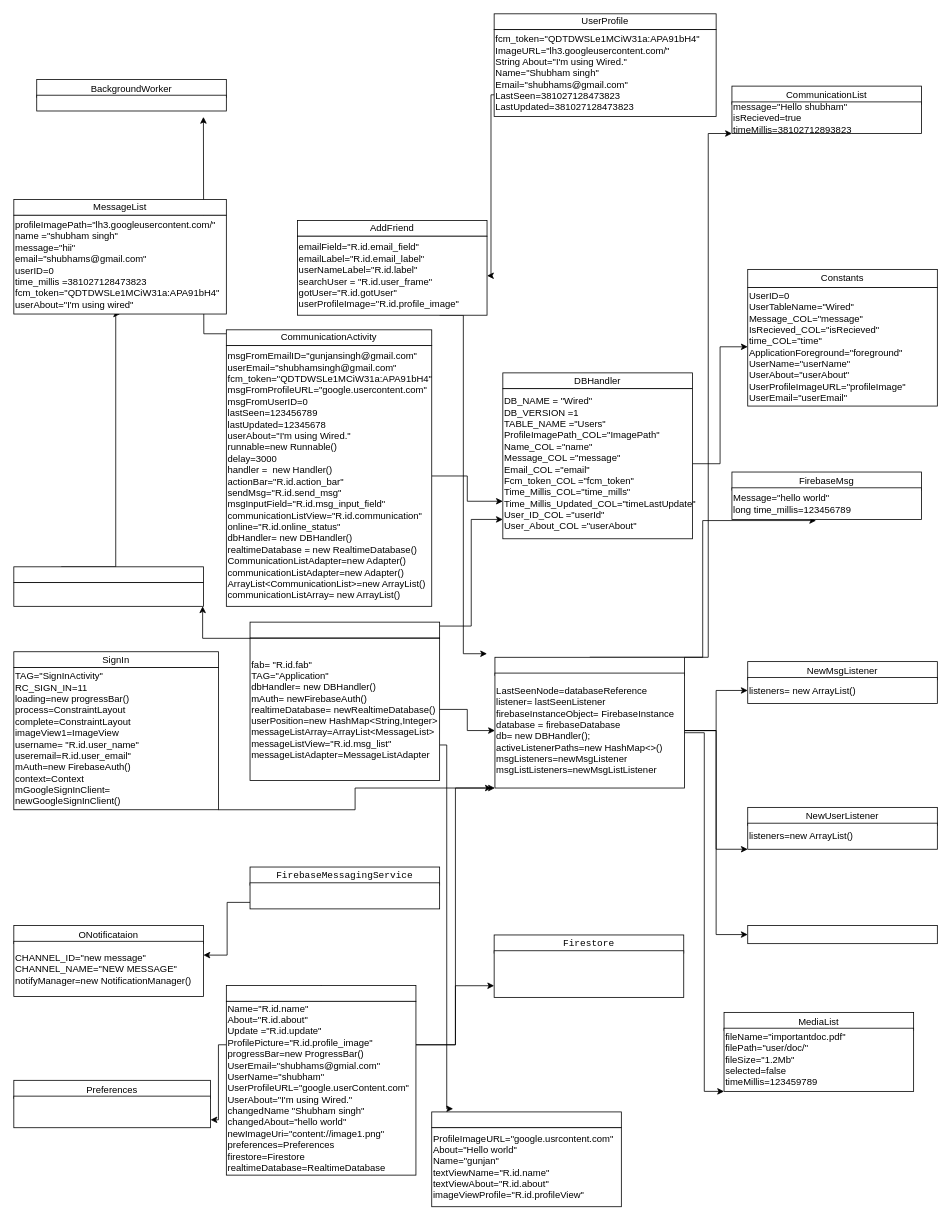
The diagram is 951 pixels wide and 1221 high, and some of its shapes have lost their labels. Here are the shapes that lost their labels. From the top down, the centre of each, then its label:
point (131, 102): mRequestQueue=new() RequestQueue()
point (108, 574): MessageListAdapter
point (108, 594): context = Context
point (344, 629): MainActiivty
point (589, 665): RealtimeDatabase
point (344, 895): TAG= "FCMService"
point (842, 934): Codec
point (321, 993): UserSetting
point (588, 973): TAG="FireStore" context=Context storage=new FirebaseStorage()
point (112, 1111): sharedPreferences=newSharedPreferences context=Context
point (526, 1119): ProfileView
